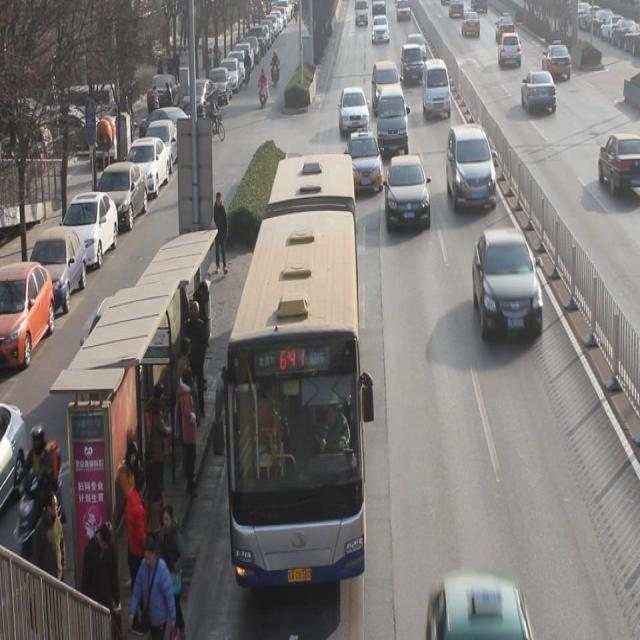car: (472, 228, 544, 338), (424, 577, 532, 640), (445, 124, 497, 211), (388, 154, 430, 230), (599, 134, 640, 199), (347, 132, 383, 192), (338, 87, 370, 132), (521, 72, 557, 112), (371, 63, 402, 104), (542, 42, 573, 80), (402, 43, 424, 85), (499, 30, 521, 65), (462, 7, 481, 38), (372, 14, 389, 43), (406, 32, 426, 56), (496, 14, 515, 38)
truck: (377, 90, 409, 154), (423, 58, 452, 116)
van: (220, 153, 364, 587)
